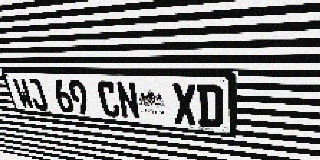6: (51, 79, 75, 113)
9: (67, 80, 92, 115)
C: (96, 81, 121, 118)
D: (196, 84, 223, 128)
J: (25, 78, 49, 111)
N: (115, 81, 141, 120)
W: (11, 78, 35, 109)
X: (171, 83, 197, 126)
